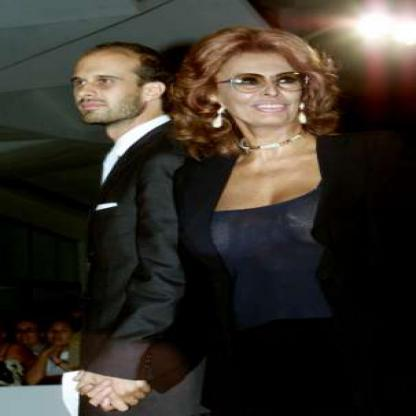face: (218, 38, 310, 129), (64, 47, 152, 126)
